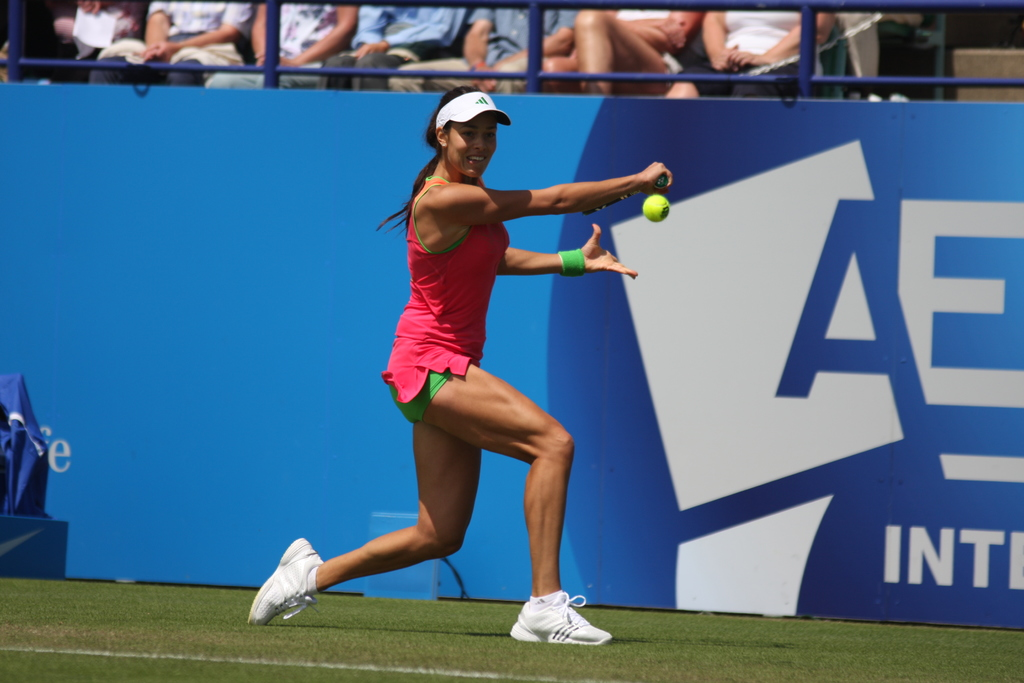Human_hand: (582, 225, 642, 280), (644, 15, 691, 50), (643, 158, 673, 194), (707, 41, 744, 70), (724, 51, 768, 74), (138, 44, 179, 58), (470, 69, 500, 88), (257, 54, 298, 67), (356, 44, 388, 60), (146, 46, 173, 62)
